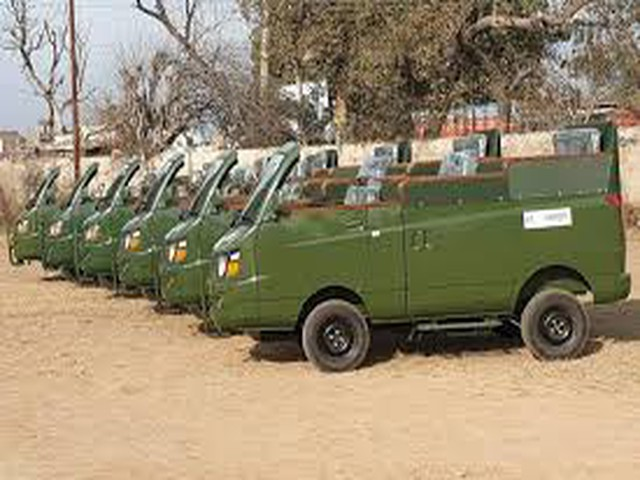Vehicle: (175, 121, 630, 363), (14, 159, 174, 292)
